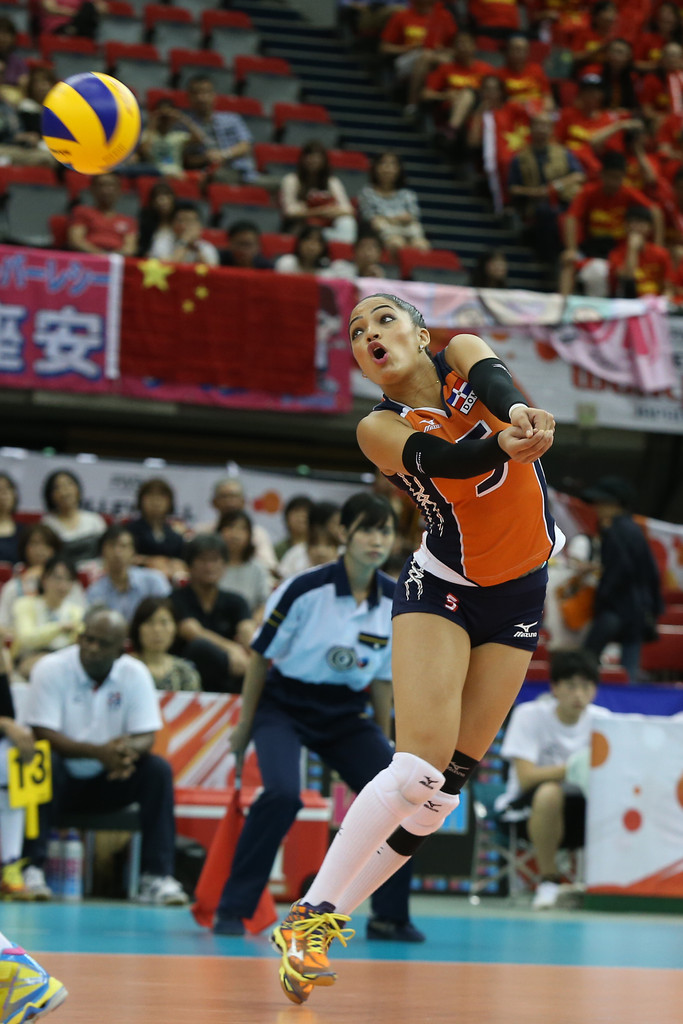volleyball: (40, 67, 141, 176)
